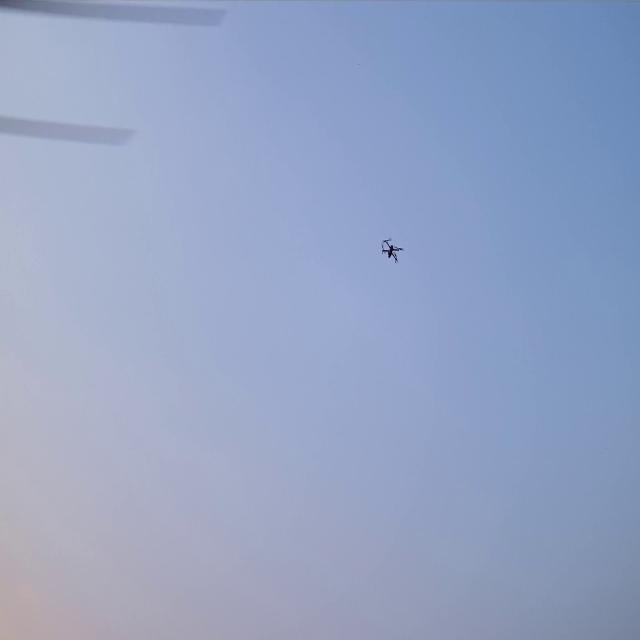UAV: (380, 234, 404, 264)
